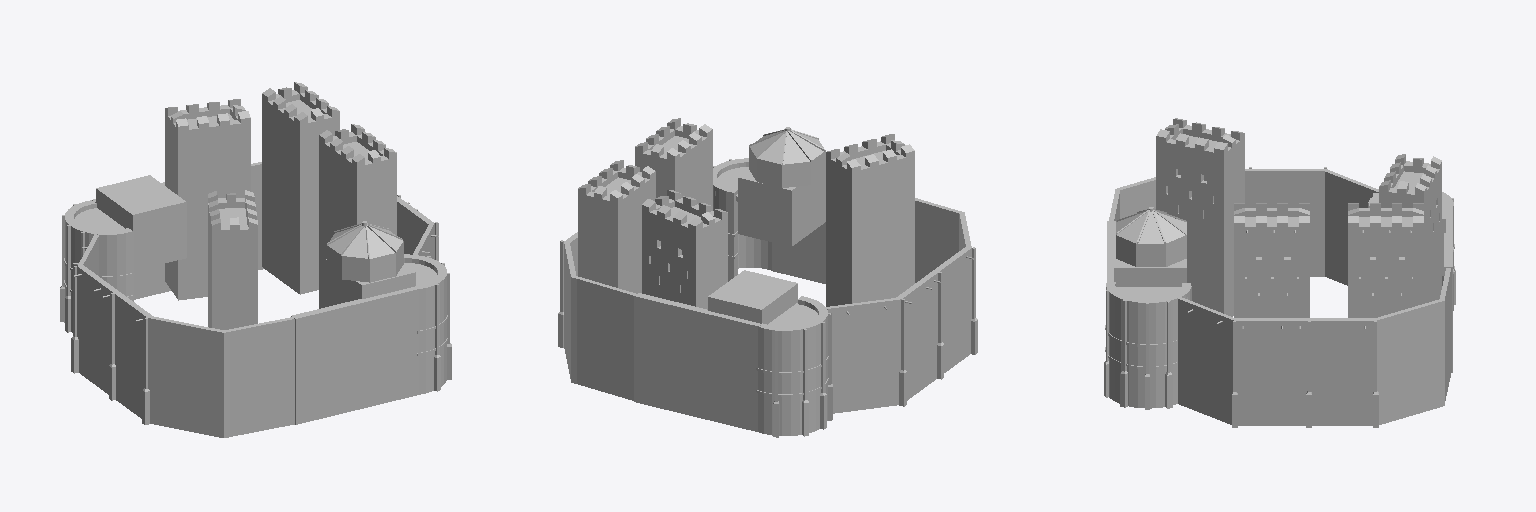
Rendered from castle.obj.
3 views of the same model, side by side, from view 1: azimuth 30°, elevation 25°; view 2: azimuth 150°, elevation 25°; view 3: azimuth 270°, elevation 25° (orthographic).
Visible parts, largest first — view 1: pCube41 group9, group8 pCube5, group8 pCube3 group4, group8 group4 pCube43, group8 group4 pCube42, group9 pCube3 group4, group9 pCube6, group8 pCylinder1, group9 pCube2 group1, group8 pCube2 group1, pCube41 group8, group8 pCube6 (+6 smaller); view 2: pCube41 group9, group9 pCube3 group4, group9 pCube5, group8 group4 pCube43, pCube41 group8, group8 pCube3 group4, group9 pCube2 group1, group8 pCube6, group8 group4 pCube42, group8 pCylinder1, group9 pCube6, group8 pCube2 group1 (+7 smaller); view 3: pCube41 group8, group9 pCube3 group4, group8 group4 pCube42, pCube41 group9, group8 pCube3 group4, group8 pCube2 group1, group8 group4 pCube43, group8 pCylinder1, group8 pCube6, group8 pCube22, group9 pCube5, group8 pCube19 (+1 smaller).
Part boxes in pixels (x1,y1,x2,y2): pCube41 group9: (77, 234, 294, 437); group8 pCube5: (291, 286, 419, 424); group8 pCube3 group4: (262, 82, 339, 294); group8 group4 pCube43: (165, 99, 250, 300); group8 group4 pCube42: (319, 124, 396, 308); group9 pCube3 group4: (208, 190, 257, 329); group9 pCube6: (96, 175, 186, 270); group8 pCylinder1: (327, 225, 403, 282); group9 pCube2 group1: (64, 200, 134, 332); group8 pCube2 group1: (404, 254, 447, 394); pCube41 group8: (251, 162, 434, 269); group8 pCube6: (325, 259, 415, 306); pCube41 group9: (826, 198, 971, 413); group9 pCube3 group4: (826, 134, 914, 306); group9 pCube5: (634, 293, 763, 431); group8 group4 pCube43: (642, 190, 727, 309); pCube41 group8: (564, 232, 636, 400); group8 pCube3 group4: (578, 160, 655, 293); group9 pCube2 group1: (756, 296, 828, 435); group8 pCube6: (738, 170, 825, 246); group8 group4 pCube42: (635, 118, 712, 205); group8 pCylinder1: (749, 131, 825, 187); group9 pCube6: (708, 270, 797, 324); group8 pCube2 group1: (713, 158, 771, 281); pCube41 group8: (1178, 268, 1451, 425); group9 pCube3 group4: (1156, 118, 1244, 316); group8 group4 pCube42: (1234, 203, 1309, 317); pCube41 group9: (1109, 169, 1378, 285); group8 pCube3 group4: (1348, 203, 1423, 317); group8 pCube2 group1: (1105, 282, 1191, 408); group8 group4 pCube43: (1379, 154, 1441, 303); group8 pCylinder1: (1116, 211, 1186, 266); group8 pCube6: (1114, 241, 1186, 286); group8 pCube22: (1120, 300, 1127, 407); group9 pCube5: (1444, 206, 1452, 372); group8 pCube19: (1116, 287, 1187, 298).
Bounding box in the file's own units: 41.1 × 22.67 × 38.4.